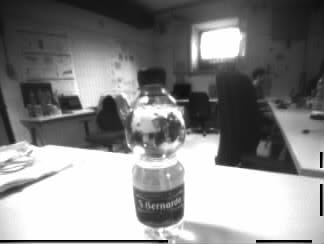Bottle: (126, 67, 187, 240)
